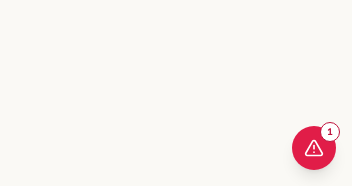
it: reading the list › shows each alert with where it came from
Click the button titled "Feature alerts".
click(314, 148)  # box [292, 126, 336, 170]
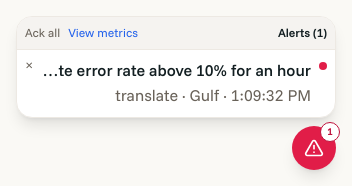
Now the text "Translate error rate above 10% for an hour" is shown, box [41, 58, 311, 83]
Now the text "translate · Gulf · 1:09:32 PM" is shown, box [115, 85, 311, 105]
